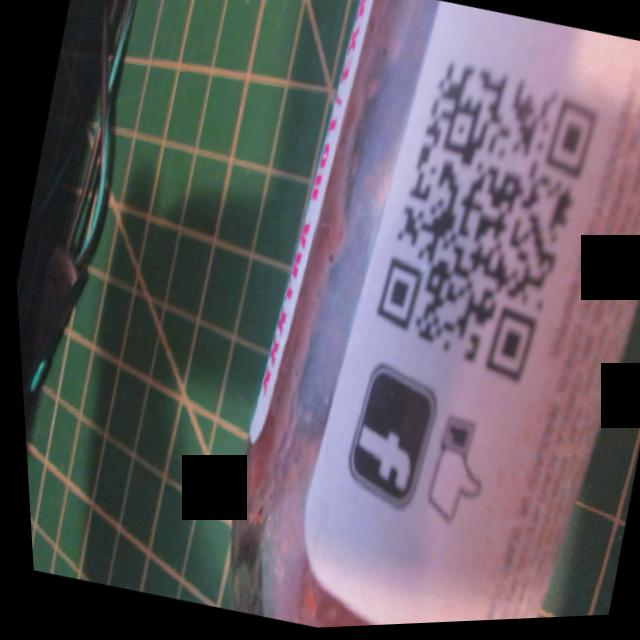QR_CODE: (336, 22, 630, 425)
